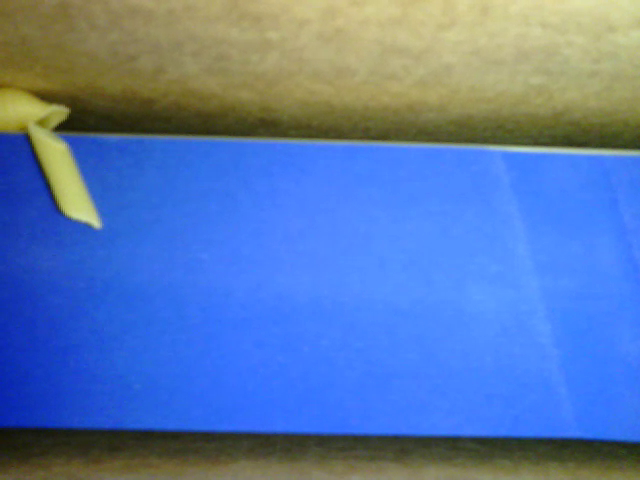penne: (26, 119, 107, 230)
shell: (1, 85, 76, 133)
